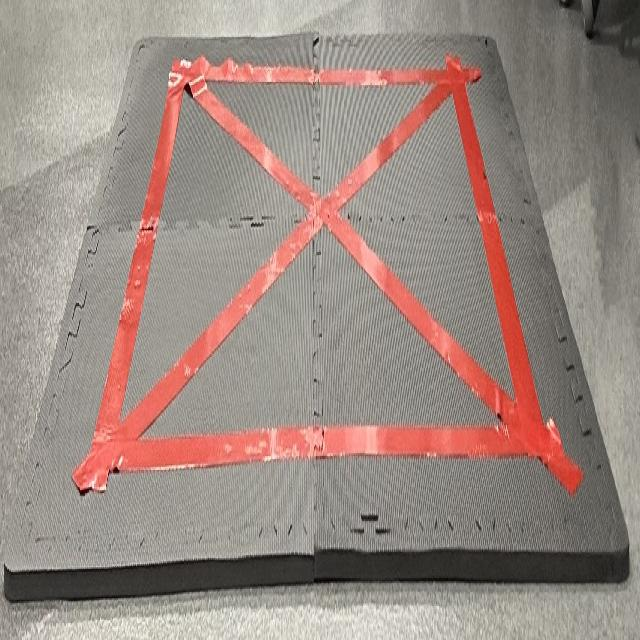landingPads: (3, 31, 636, 603)
